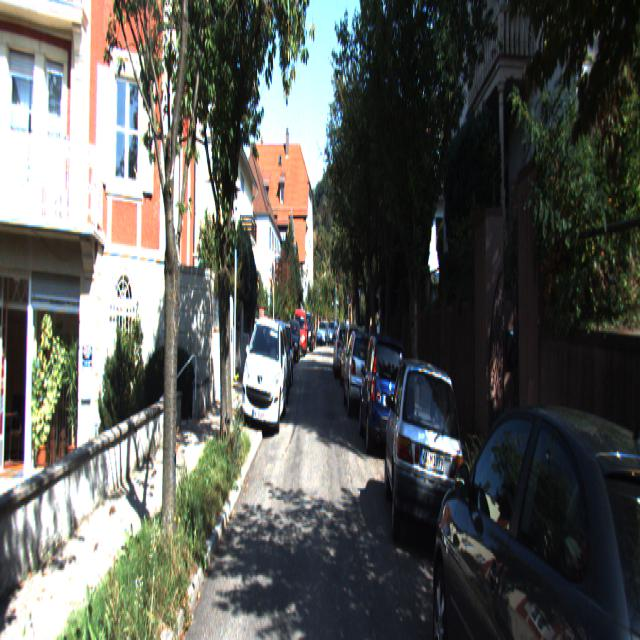Car: (424, 360, 640, 638), (385, 349, 468, 586), (359, 328, 409, 472), (242, 316, 288, 444), (343, 324, 380, 425), (338, 324, 366, 398), (332, 319, 354, 381), (292, 307, 308, 357)
